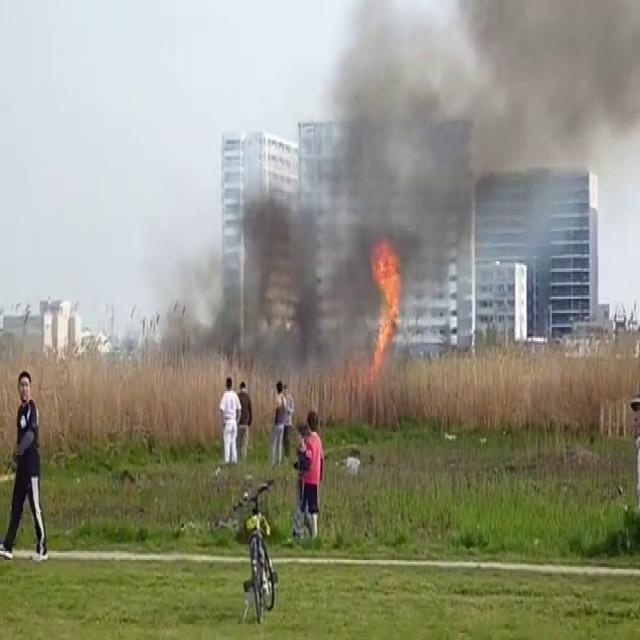Fire: (363, 230, 407, 371)
Smoke: (291, 0, 640, 292)
